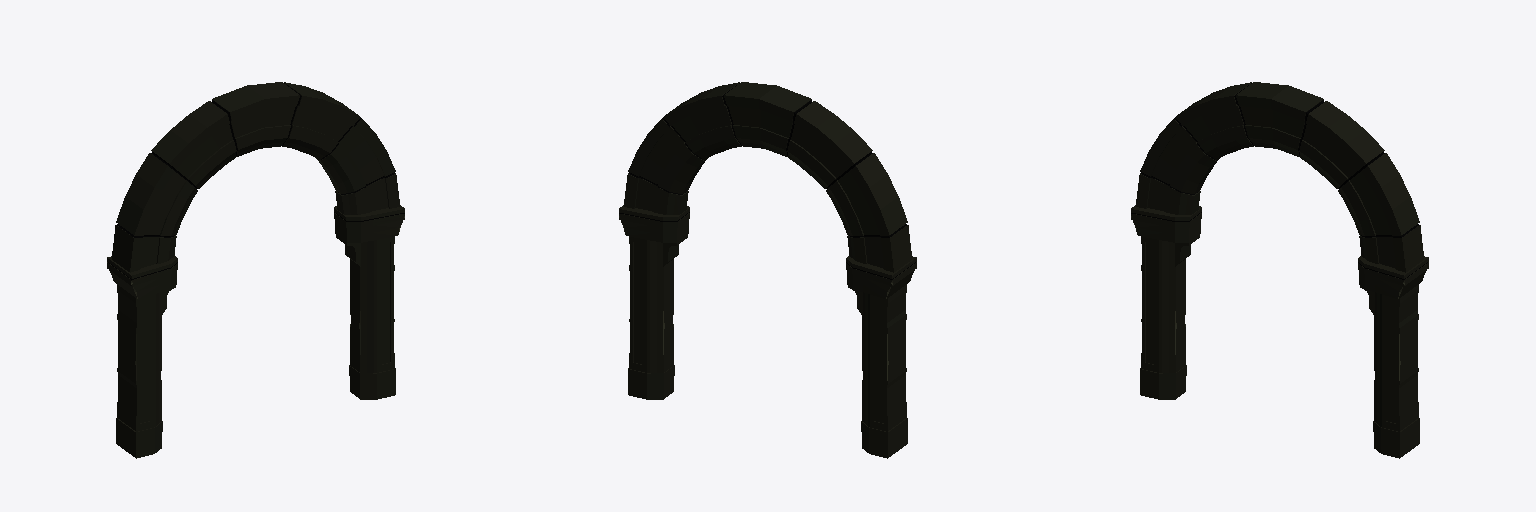
File: Arch_Round.obj
The picture shows the model from 3 angles: view 1: azimuth 30°, elevation 25°; view 2: azimuth 150°, elevation 25°; view 3: azimuth 330°, elevation 25°; orthographic projection.
Visible parts, largest first — view 1: Arch_Round_Cylinder.004; view 2: Arch_Round_Cylinder.004; view 3: Arch_Round_Cylinder.004.
Part boxes in pixels (left/top/right/bottom): Arch_Round_Cylinder.004: left=107, top=82, right=404, bottom=458; Arch_Round_Cylinder.004: left=619, top=82, right=916, bottom=458; Arch_Round_Cylinder.004: left=1131, top=82, right=1428, bottom=458.
Bounding box in the file's own units: 3.09 × 3.53 × 0.491.